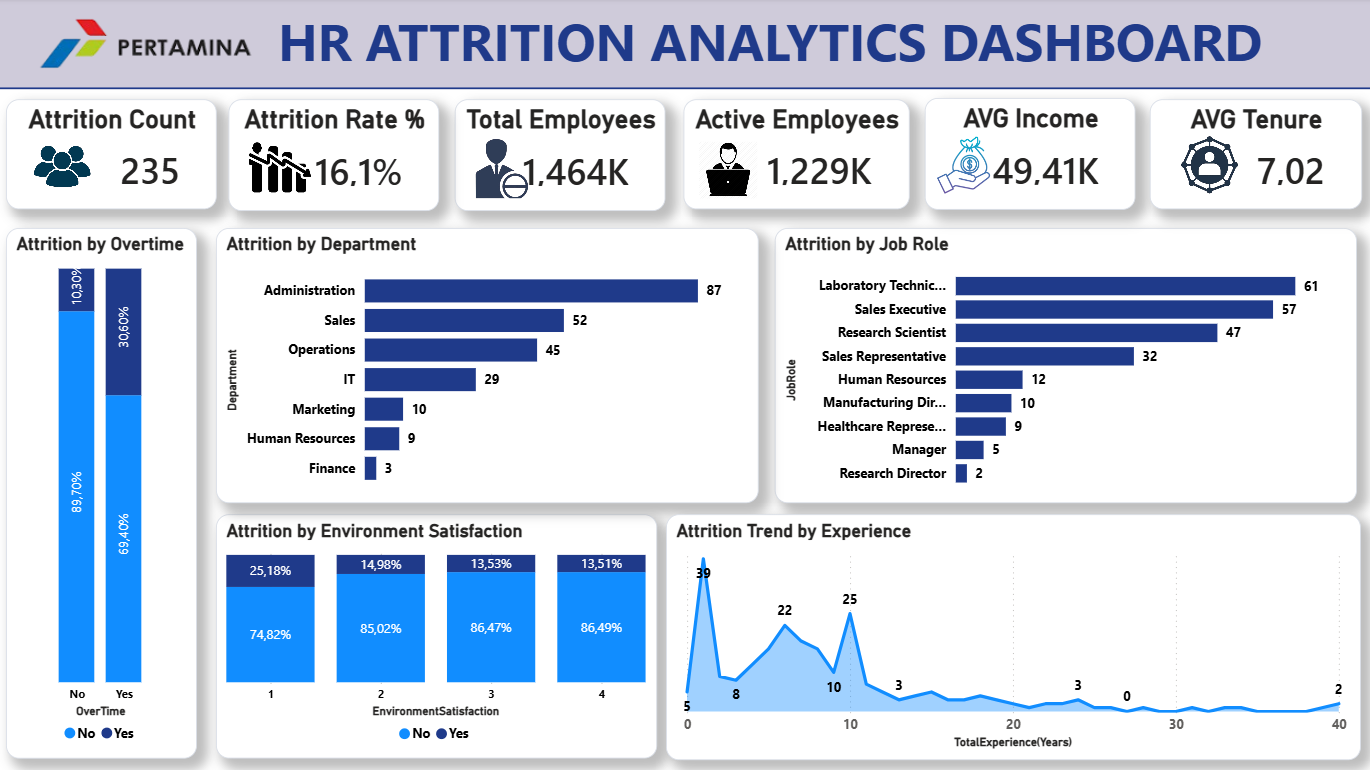

Layout of this report page (visuals, bound fields, positions):
{"tool":"powerbi","page":{"name":"Executive Overview","canvas":[1280,720],"ordinal":0},"visuals":[{"type":"textbox","box":[0,0,1280.3,85.1],"z":0},{"type":"image","box":[30,0,217.5,85],"z":1000},{"type":"cardVisual","title":"Total Employees","fields":{"Data":["CountNonNull(HR_Analytics_4.EmpID)"]},"box":[427.3,93.6,196.4,103.6],"z":2000},{"type":"cardVisual","title":"Active Employees","fields":{"Data":["CountNonNull(HR_Analytics_4.EmpID)"]},"box":[640,93.6,210,102.7],"z":3000},{"type":"cardVisual","title":"Attrition Count","fields":{"Data":["Sum(HR_Analytics_4.AttritionCount)"]},"box":[9.1,93.6,196.4,102.7],"z":4000},{"type":"cardVisual","title":"Attrition Rate %","fields":{"Data":["HR_Analytics_4.Attrition Rate %"]},"box":[215.8,93.8,196.2,103.8],"z":5000},{"type":"image","box":[30,130,63.8,52.5],"z":6000},{"type":"image","box":[653.8,133.8,55,52.5],"z":7000},{"type":"image","box":[218.8,108.8,91.2,115],"z":8000},{"type":"image","box":[440,130,58.8,56.2],"z":9000},{"type":"clusteredBarChart","title":"Attrition by Job Role","fields":{"Category":["HR_Analytics_4.JobRole"],"Y":["Sum(HR_Analytics_4.AttritionCount)"]},"box":[725,213.8,541.2,256.2],"z":10000},{"type":"cardVisual","title":"AVG Income","fields":{"Data":["Avg(HR_Analytics_4.MonthlyIncome)"]},"box":[863.6,92.7,196.4,103.6],"z":11000},{"type":"cardVisual","title":"AVG Tenure","fields":{"Data":["Avg(HR_Analytics_4.YearsatCompany)"]},"box":[1073.6,93.6,197.3,102.7],"z":12000},{"type":"hundredPercentStackedColumnChart","title":"Attrition by Overtime","fields":{"Category":["HR_Analytics_4.OverTime"],"Series":["HR_Analytics_4.Attrition"],"Y":["CountNonNull(HR_Analytics_4.EmpID)"]},"box":[8.8,213.8,177.5,493.8],"z":13000},{"type":"hundredPercentStackedColumnChart","title":"Attrition by Environment Satisfaction","fields":{"Category":["HR_Analytics_4.EnvironmentSatisfaction"],"Series":["HR_Analytics_4.Attrition"],"Y":["CountNonNull(HR_Analytics_4.EmpID)"]},"box":[205,480,410,227.5],"z":14000},{"type":"image","box":[1084.5,128.2,88.2,60],"z":15000},{"type":"clusteredBarChart","title":"Attrition by Department","fields":{"Y":["Sum(HR_Analytics_4.AttritionCount)"],"Category":["HR_Analytics_4.Department"]},"box":[205,213.8,505,256.2],"z":16000},{"type":"areaChart","title":"Attrition Trend by Experience","fields":{"Category":["HR_Analytics_4.TotalExperience(Years)"],"Y":["Sum(HR_Analytics_4.AttritionCount)"]},"box":[623.8,480,646.2,228.8],"z":17000},{"type":"image","box":[872.5,128.8,56.2,52.5],"z":18000}]}

Visuals, with their boxes in screenshot pixels (x1, y1, x2, y2), scaled from the page's 1280x720 canvas onto the 1370x770 screenshot:
textbox: 0:0:1369:91
image: 32:0:265:91
"Total Employees" cardVisual: 457:100:668:211
"Active Employees" cardVisual: 685:100:910:210
"Attrition Count" cardVisual: 10:100:220:210
"Attrition Rate %" cardVisual: 231:100:441:211
image: 32:139:100:195
image: 700:143:759:199
image: 234:116:332:239
image: 471:139:534:199
"Attrition by Job Role" clusteredBarChart: 776:229:1355:503
"AVG Income" cardVisual: 924:99:1135:210
"AVG Tenure" cardVisual: 1149:100:1360:210
"Attrition by Overtime" hundredPercentStackedColumnChart: 9:229:199:757
"Attrition by Environment Satisfaction" hundredPercentStackedColumnChart: 219:513:658:757
image: 1161:137:1255:201
"Attrition by Department" clusteredBarChart: 219:229:760:503
"Attrition Trend by Experience" areaChart: 668:513:1359:758
image: 934:138:994:194
